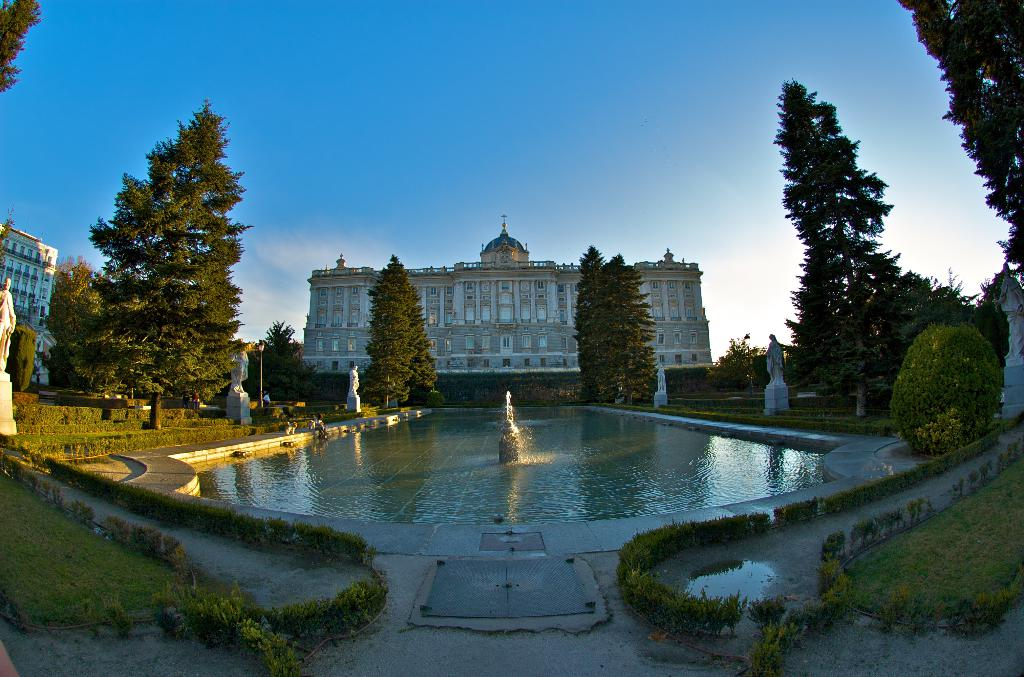Tree: (63, 87, 252, 438), (771, 73, 903, 422), (895, 0, 1021, 285), (942, 0, 1020, 162), (581, 245, 660, 399), (871, 254, 951, 396), (373, 257, 439, 388), (60, 276, 124, 411), (967, 253, 1023, 372), (360, 277, 412, 405), (576, 244, 615, 404), (109, 282, 156, 395), (56, 245, 92, 384), (0, 0, 46, 99), (263, 311, 309, 395), (268, 343, 319, 397), (712, 337, 755, 390), (987, 0, 1023, 62), (5, 329, 38, 395), (709, 349, 734, 392)
